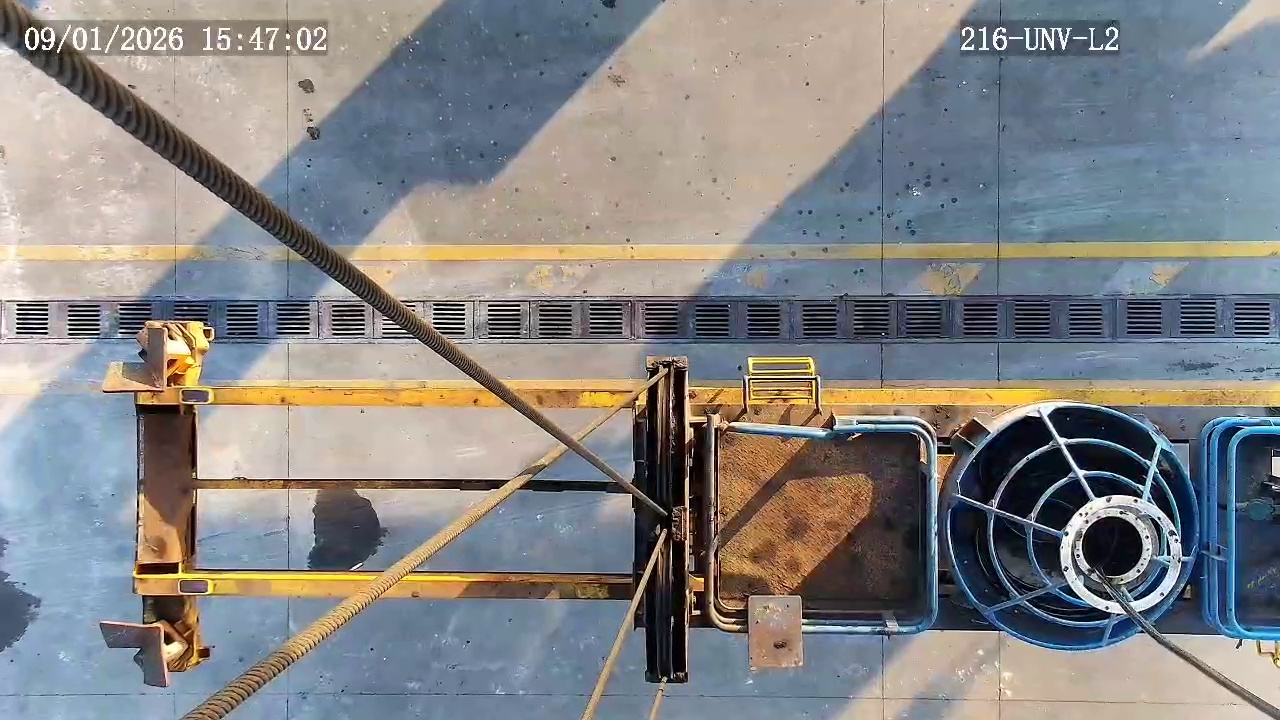left: (946, 404, 1200, 650)
